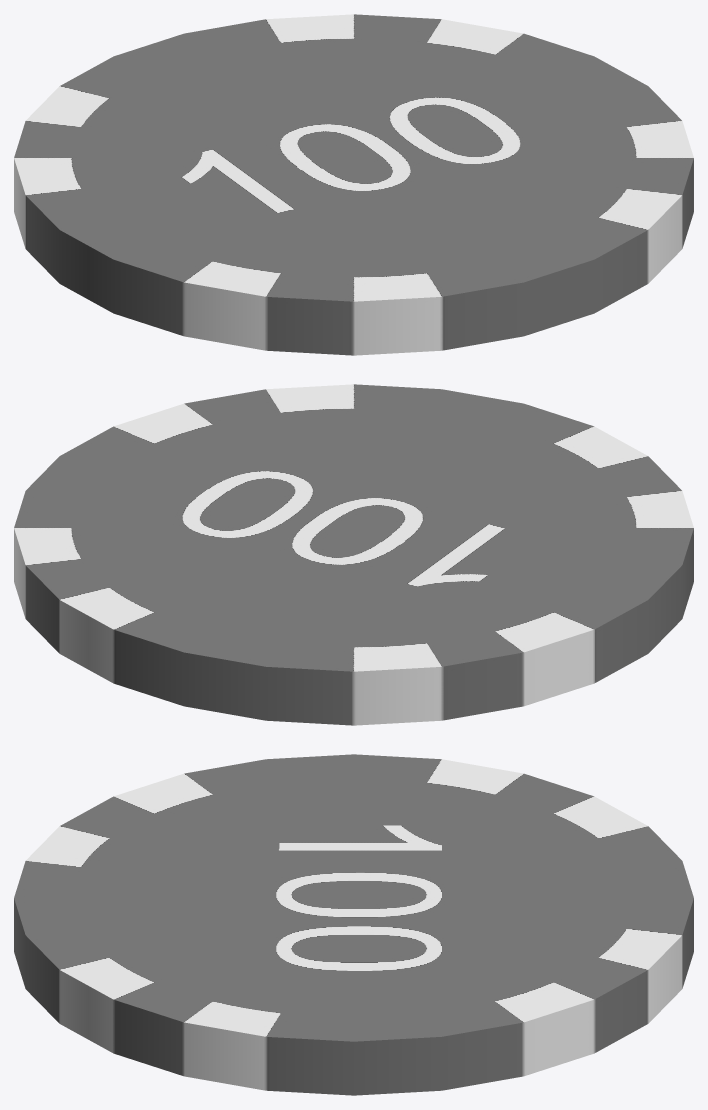
The model's file is Chip.FBX.
The picture shows the model from 3 angles, top to bottom: view 1: azimuth 30°, elevation 25°; view 2: azimuth 150°, elevation 25°; view 3: azimuth 270°, elevation 25°; orthographic projection.
Parts seen in each view (by area): view 1: TestChip; view 2: TestChip; view 3: TestChip.
Boxes of the visible parts, x1,y1,x2,y2 form: TestChip: [14, 14, 693, 355]; TestChip: [14, 384, 693, 725]; TestChip: [14, 754, 693, 1095].
Size of the model in its own units: 4 by 0.35 by 4.
